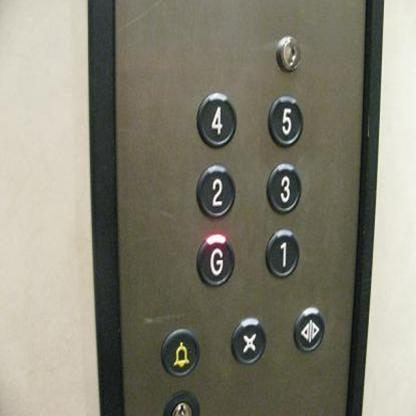1: (263, 225, 300, 282)
2: (194, 161, 236, 221)
3: (264, 159, 303, 215)
4: (195, 90, 238, 150)
5: (266, 93, 304, 150)
G: (195, 230, 236, 288)
alarm: (159, 326, 200, 378)
fan: (229, 314, 267, 366)
keyhole: (274, 33, 302, 74)
open: (292, 304, 325, 354)
